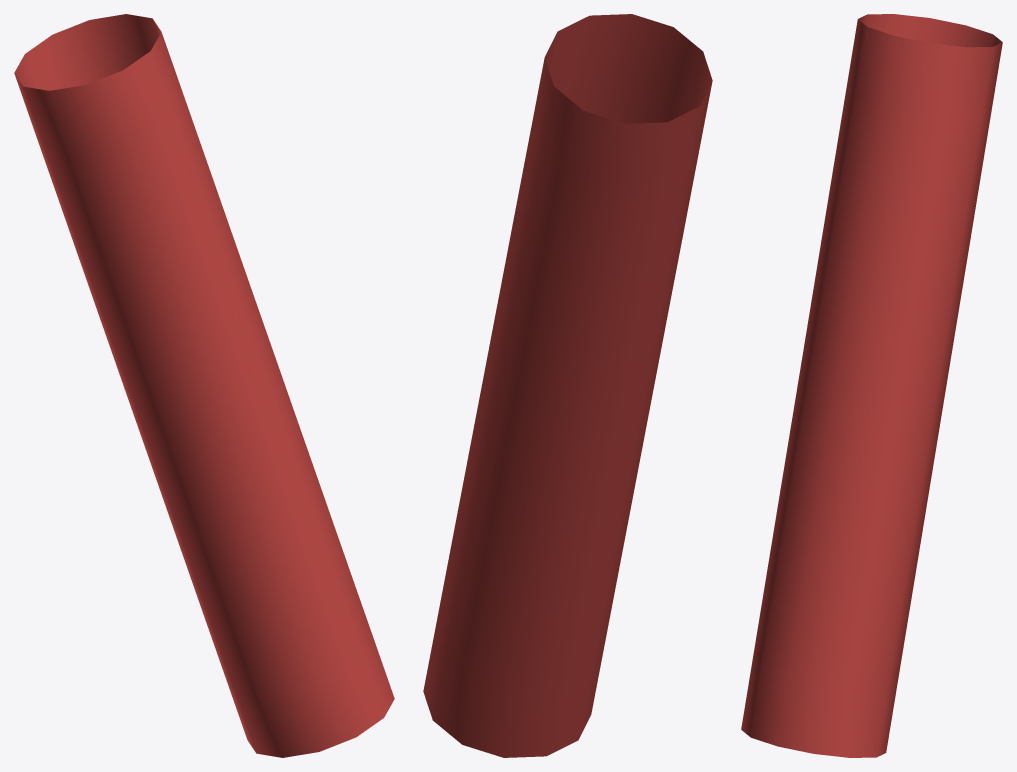
The picture shows the model from 3 angles, left to right: view 1: azimuth 30°, elevation 25°; view 2: azimuth 150°, elevation 25°; view 3: azimuth 270°, elevation 25°; orthographic projection. The views are drawn at different scales.
Visible parts, largest first — view 1: 左侧肋颈干; view 2: 左侧肋颈干; view 3: 左侧肋颈干.
Boxes of the visible parts, box(x1,y1,x2,y2) form: 左侧肋颈干: box(14, 14, 394, 757); 左侧肋颈干: box(423, 14, 712, 757); 左侧肋颈干: box(741, 14, 1002, 757).
Size of the model in its own units: 0.00663 by 0.0149 by 0.00525.
